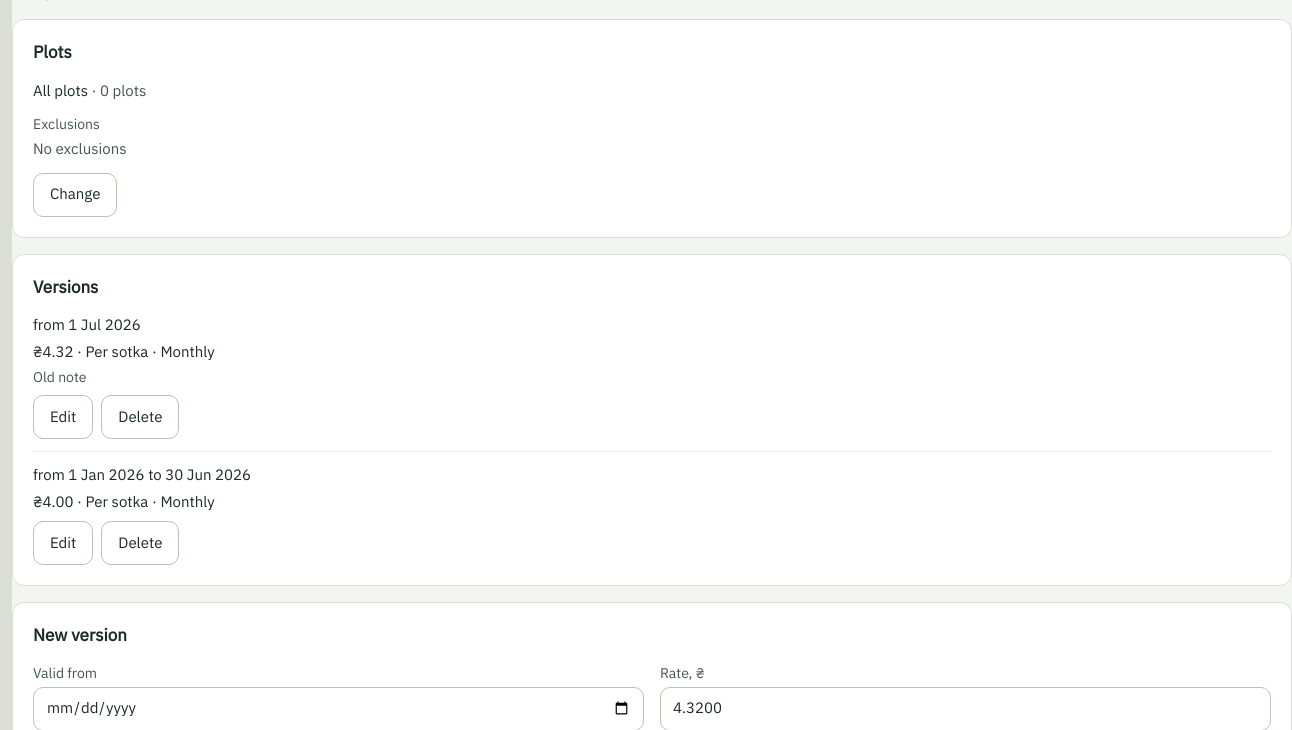
Test: TariffPage: correcting versions through a recalculation › goes back from step 2 to the filled edit form
Click the button "Edit" below "from 1 Jul 2026" at (63, 417), box [33,395,93,439]
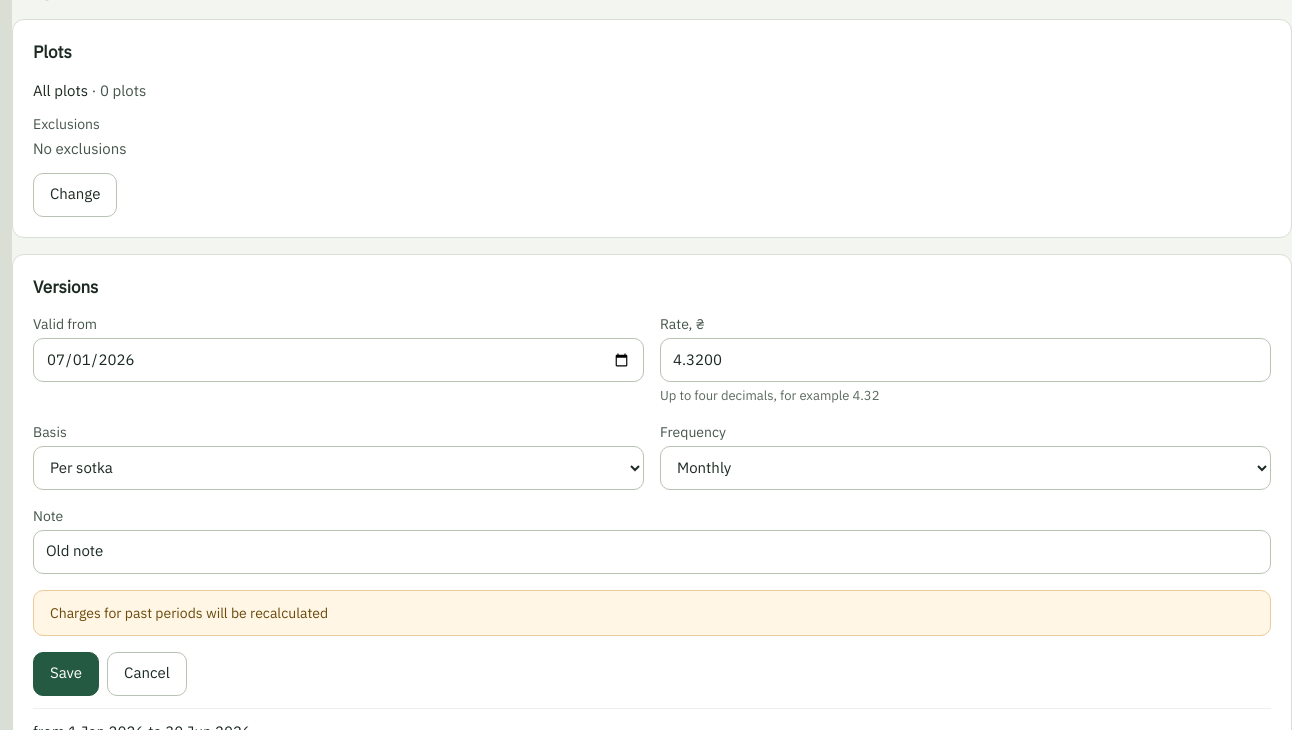
Replace the text in the field labelled "Rate, ₴" with "5" at (966, 360), box [660,338,1271,382]
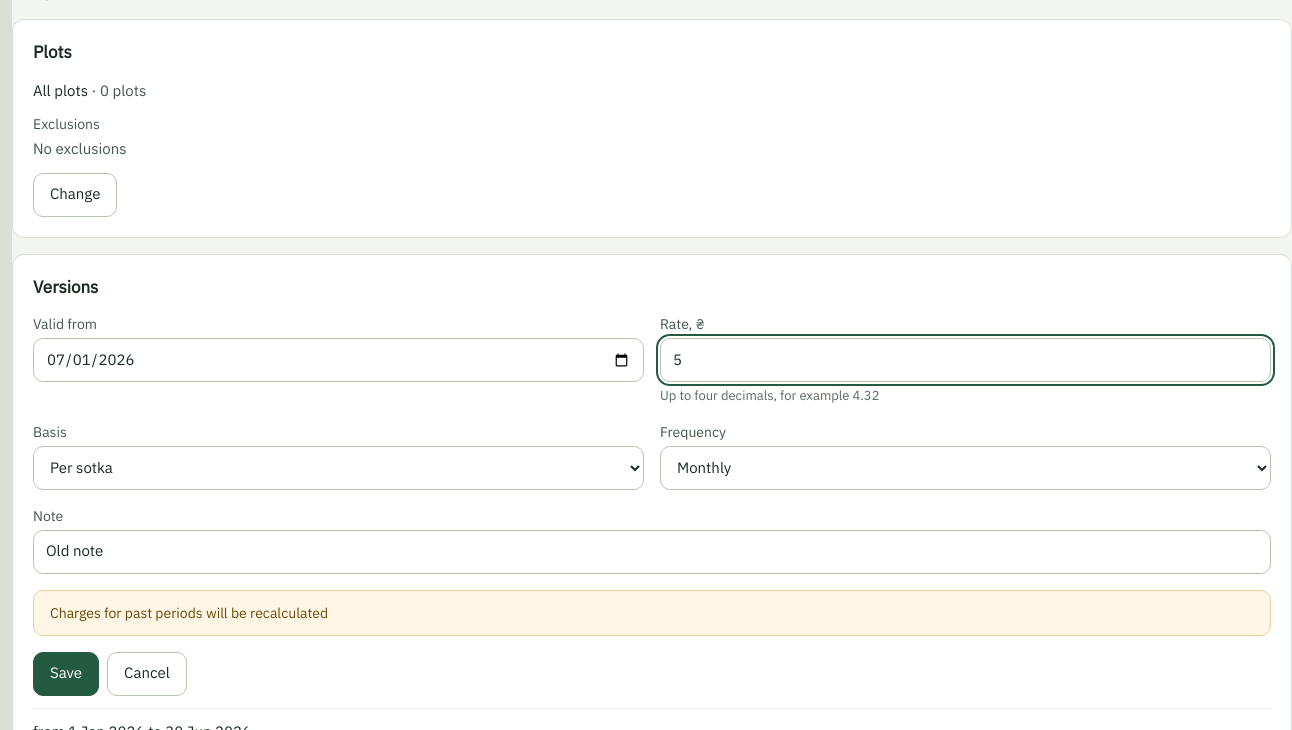
Click the button "Save" at (66, 674), box [33,652,99,696]
(page scrolled)
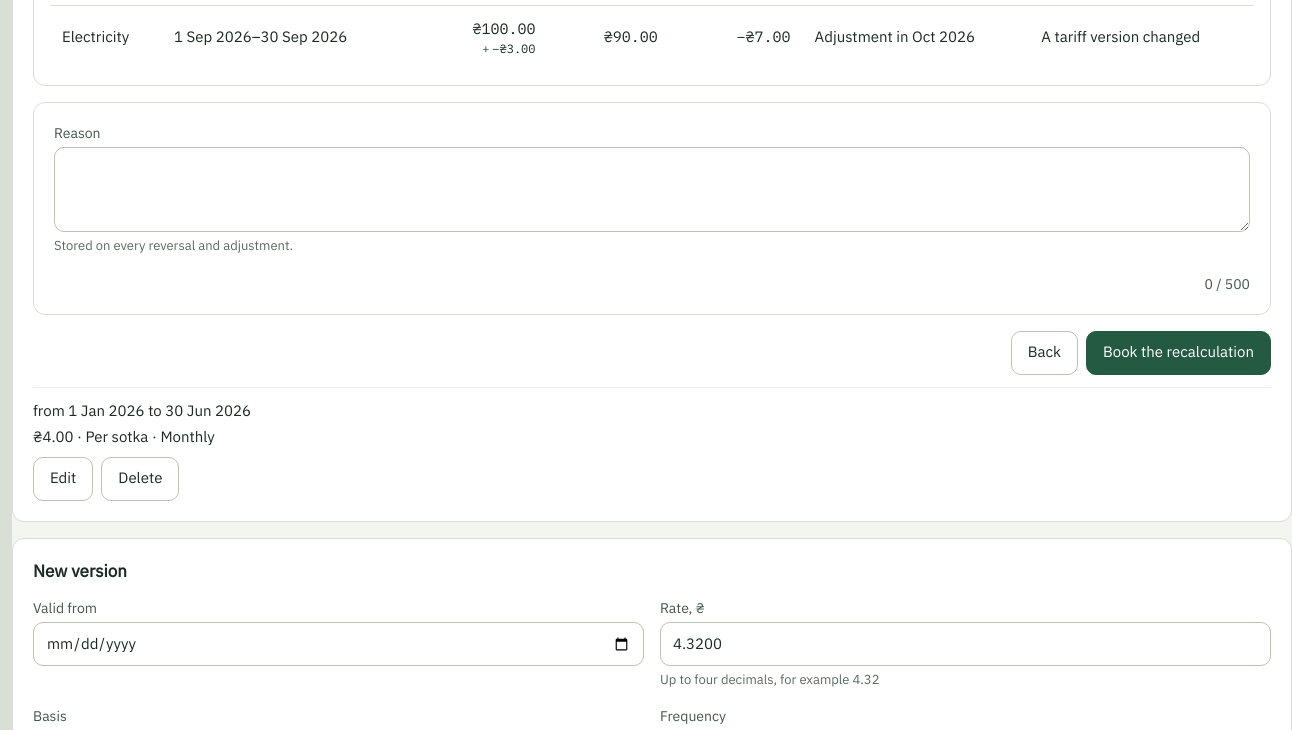
Click the button "Back" at (1044, 352), box [1011,330,1078,374]
(page scrolled)
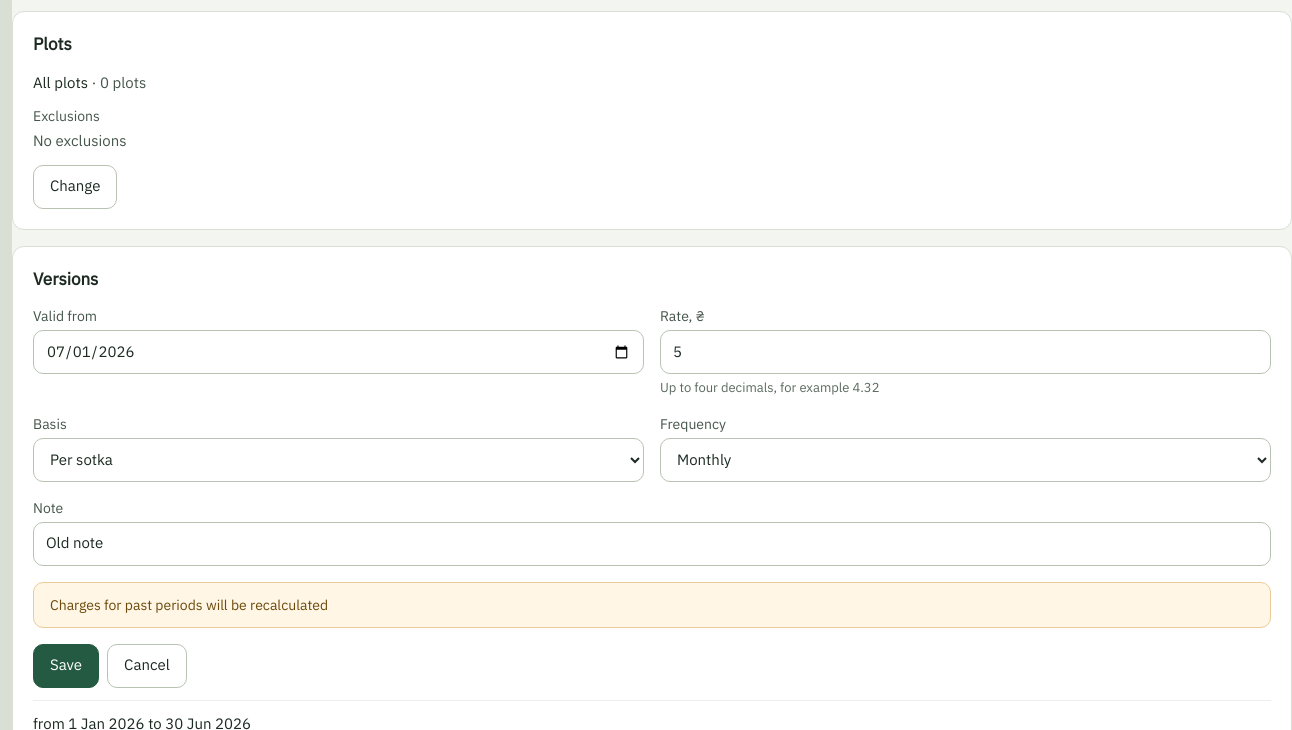
Expected: the field labelled "Rate, ₴" holds "5", [660,330,1271,374]
